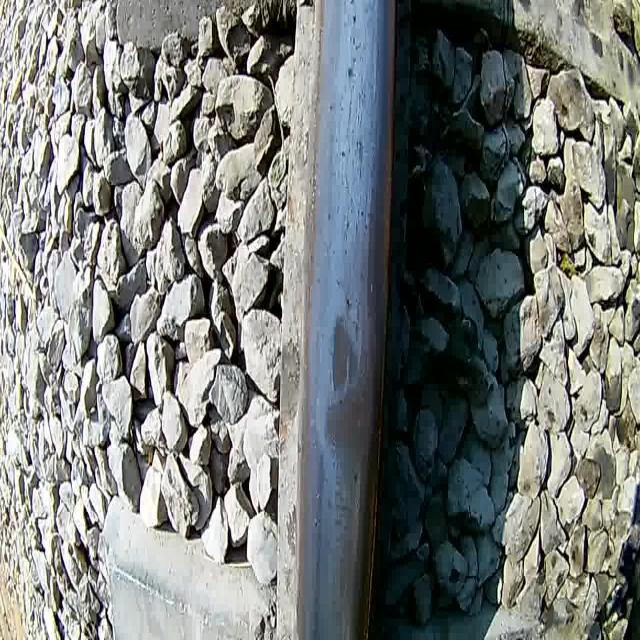Squats: (323, 387, 378, 458), (329, 313, 365, 398)
